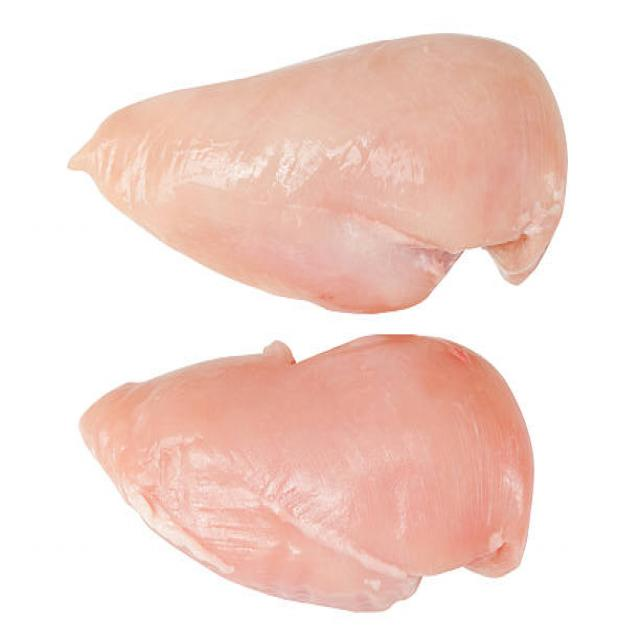Chicken: (68, 26, 611, 320), (79, 329, 586, 599)
